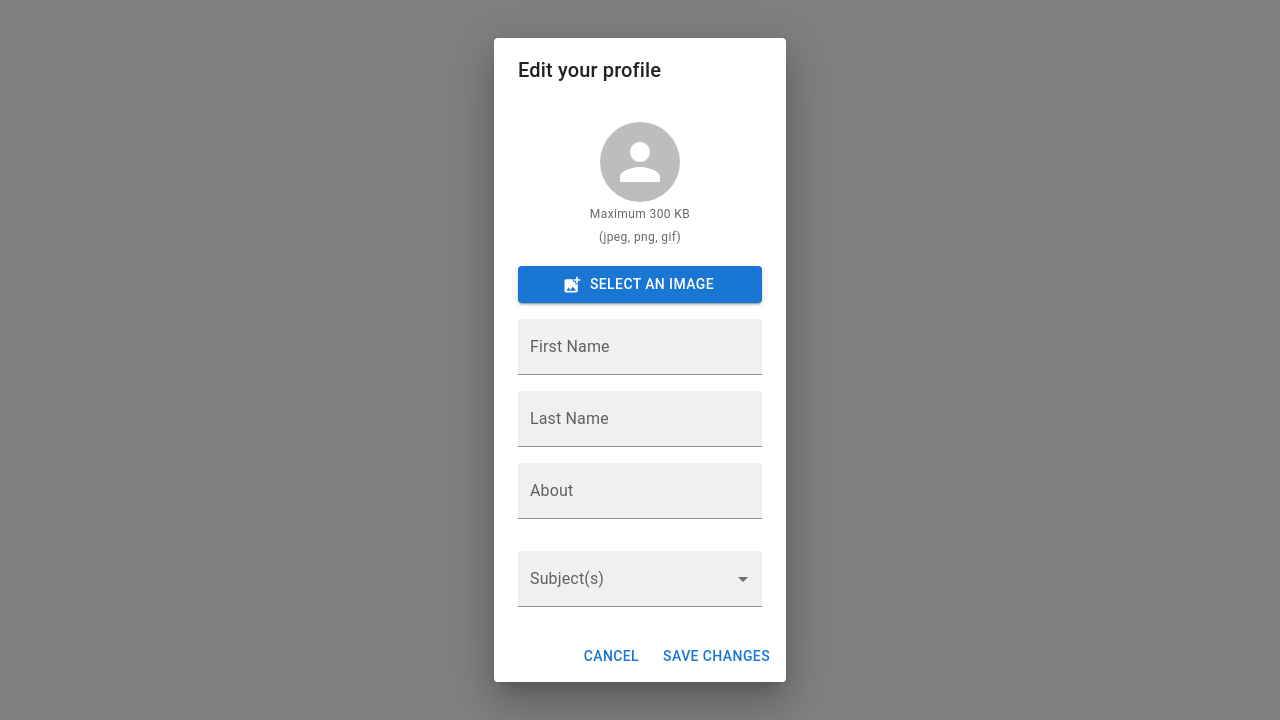
Test: EditDialog component tests: › Should show options when clicked to Select input.
Click the dropdown at coordinates (640, 579), box [518,551,762,607]
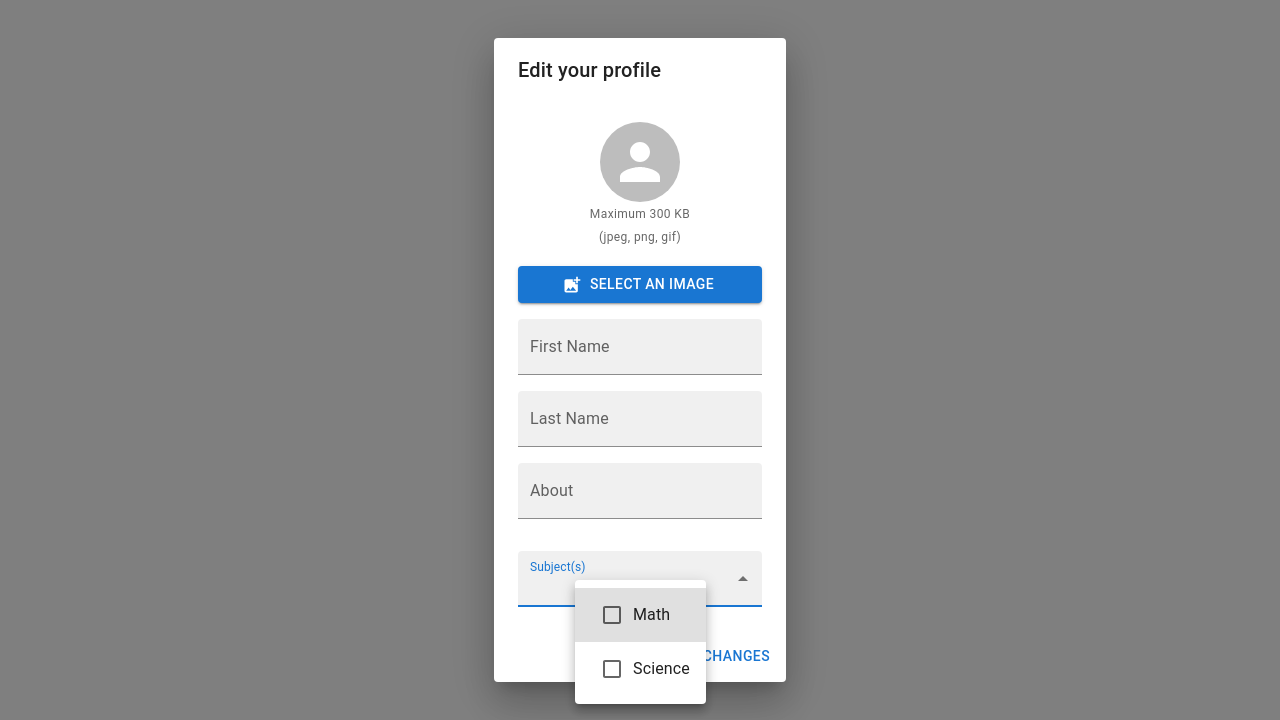
Expected: the option "Math" is shown, [575,588,706,642]
Expected: the option "Science" is shown, [600,657,690,681]
